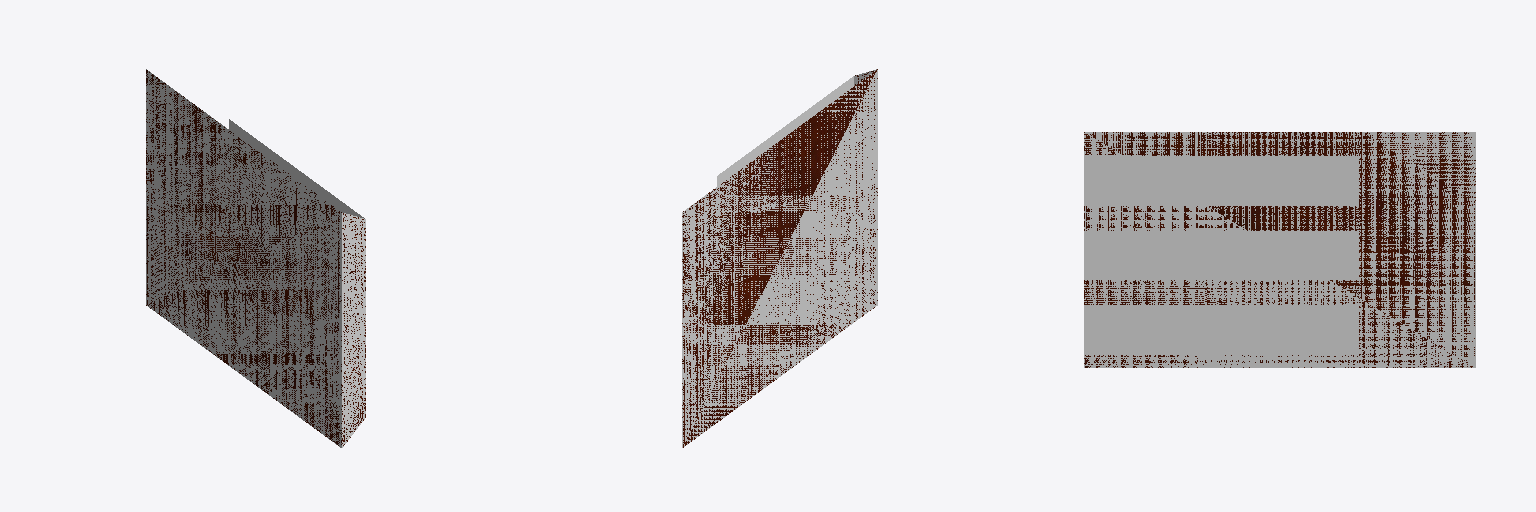
3 renders of one model, left to right at view 1: azimuth 30°, elevation 25°; view 2: azimuth 150°, elevation 25°; view 3: azimuth 270°, elevation 25°, orthographic.
Size of the model in its own units: 0.06 by 0.5698 by 0.8553.
Materials: 2 (1 with a texture image).